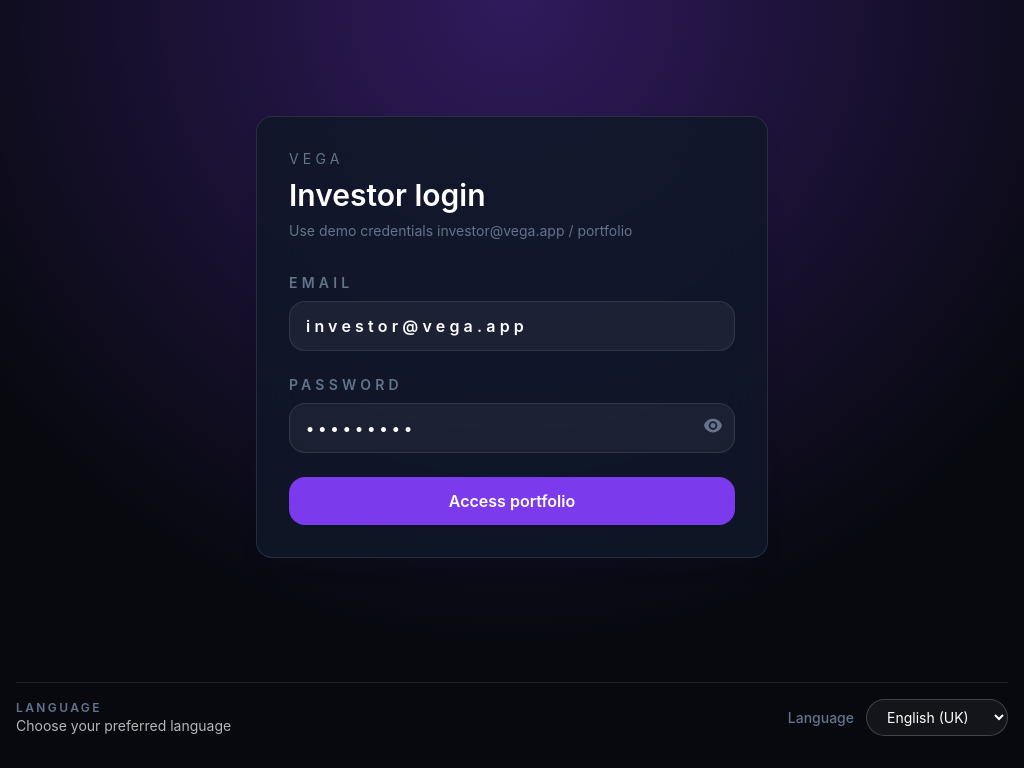
it: LoginPage › switches languages through the footer selector
Step 1. Select "Français (FR)" in the dropdown with test id "language-select" → (937, 718), box [866, 699, 1008, 736]
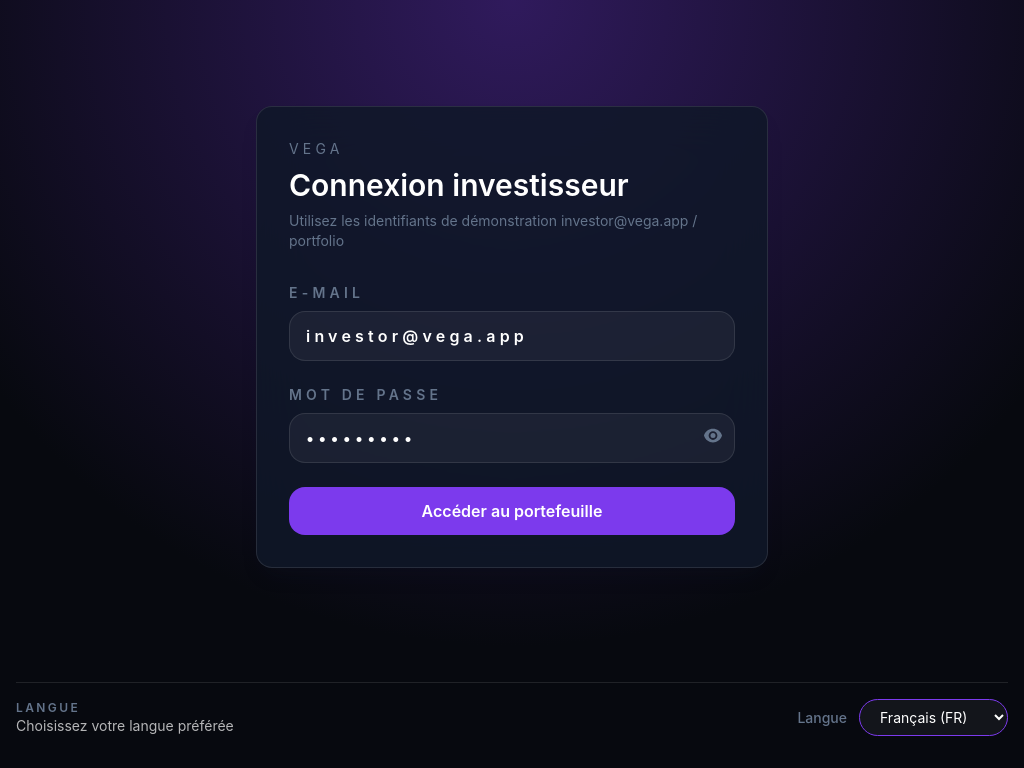
Expected: the heading "Connexion investisseur" is shown, [289, 167, 629, 203]
